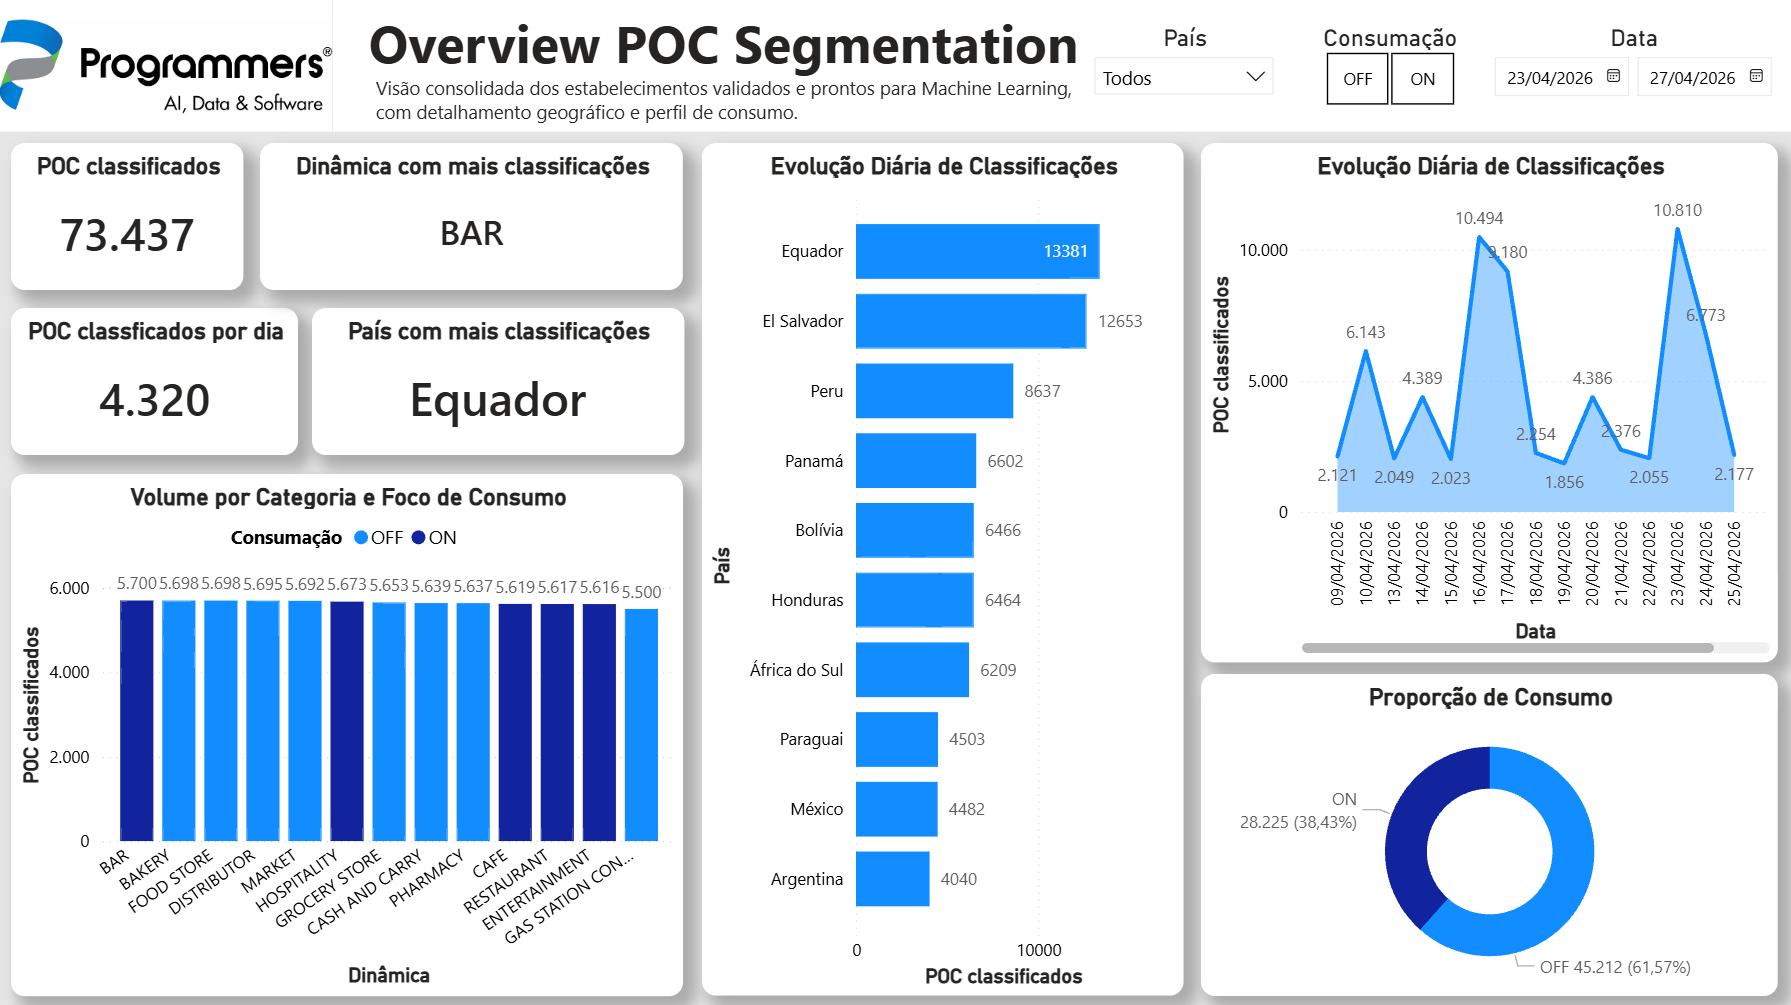

What the dashboard file says about the page in this screenshot:
{"tool":"powerbi","page":{"name":"Overview POC Segmentation","canvas":[1280,720],"ordinal":0},"visuals":[{"type":"image","box":[0,0,238.3,94.3],"z":0},{"type":"textbox","box":[238.3,0,1041.7,94.3],"z":1000},{"type":"slicer","title":"País","fields":{"Values":["Dim_Pais.Nome do Pais"]},"box":[771.3,10.7,149.8,72],"z":2000},{"type":"slicer","title":"Data","fields":{"Values":["log_execucao_pipeline.data_hora"]},"box":[1054.3,10.7,225.7,72],"z":3000},{"type":"cardVisual","title":"POC classificados","fields":{"Data":["Sum(tendencia_temporal.total_estabelecimentos)"]},"box":[8.8,102.1,166.3,105],"z":4000},{"type":"cardVisual","title":"POC classficados por dia","fields":{"Data":["tendencia_temporal.Média Diária 2"]},"box":[8.8,219.8,205.2,105],"z":5000},{"type":"cardVisual","title":"Dinâmica com mais classificações","fields":{"Data":["Min(tendencia_temporal.dynamic)"]},"box":[186.7,102.1,302.5,105],"z":6000},{"type":"cardVisual","title":"País com mais classificações","fields":{"Data":["Min(tendencia_temporal.Nome do Pais)"]},"box":[223.7,219.8,265.5,105],"z":7000},{"type":"slicer","title":"Consumação","fields":{"Values":["tendencia_temporal.consumption_focus"]},"box":[921.1,10.7,143,72],"z":8000},{"type":"columnChart","title":"Volume por Categoria e Foco de Consumo","fields":{"Category":["tendencia_temporal.dynamic"],"Y":["Sum(tendencia_temporal.total_estabelecimentos)"],"Series":["tendencia_temporal.consumption_focus"]},"box":[8.8,338.5,480.5,372.5],"z":9000},{"type":"barChart","title":"Evolução Diária de Classificações","fields":{"Category":["tendencia_temporal.Nome do Pais"],"Y":["Sum(tendencia_temporal.total_estabelecimentos)"]},"box":[501.9,102.1,344.3,608.9],"z":10000},{"type":"lineChart","title":"Evolução Diária de Classificações","fields":{"Category":["tendencia_temporal.date"],"Y":["Sum(tendencia_temporal.total_estabelecimentos)"]},"box":[858.8,102.1,412.4,370.6],"z":11000},{"type":"donutChart","title":"Proporção de Consumo","fields":{"Category":["tendencia_temporal.consumption_focus"],"Y":["Sum(tendencia_temporal.total_estabelecimentos)"]},"box":[858.8,481.5,412.4,229.5],"z":12000}]}

Visuals, with their boxes in screenshot pixels (x1, y1, x2, y2), scaled from the page's 1280x720 canvas onto the 1791x1005 screenshot:
image: [left=0, top=0, right=333, bottom=132]
textbox: [left=333, top=0, right=1790, bottom=132]
"País" slicer: [left=1079, top=15, right=1289, bottom=115]
"Data" slicer: [left=1475, top=15, right=1790, bottom=115]
"POC classificados" cardVisual: [left=12, top=143, right=245, bottom=289]
"POC classficados por dia" cardVisual: [left=12, top=307, right=299, bottom=453]
"Dinâmica com mais classificações" cardVisual: [left=261, top=143, right=684, bottom=289]
"País com mais classificações" cardVisual: [left=313, top=307, right=684, bottom=453]
"Consumação" slicer: [left=1289, top=15, right=1489, bottom=115]
"Volume por Categoria e Foco de Consumo" columnChart: [left=12, top=472, right=685, bottom=992]
"Evolução Diária de Classificações" barChart: [left=702, top=143, right=1184, bottom=992]
"Evolução Diária de Classificações" lineChart: [left=1202, top=143, right=1779, bottom=660]
"Proporção de Consumo" donutChart: [left=1202, top=672, right=1779, bottom=992]
